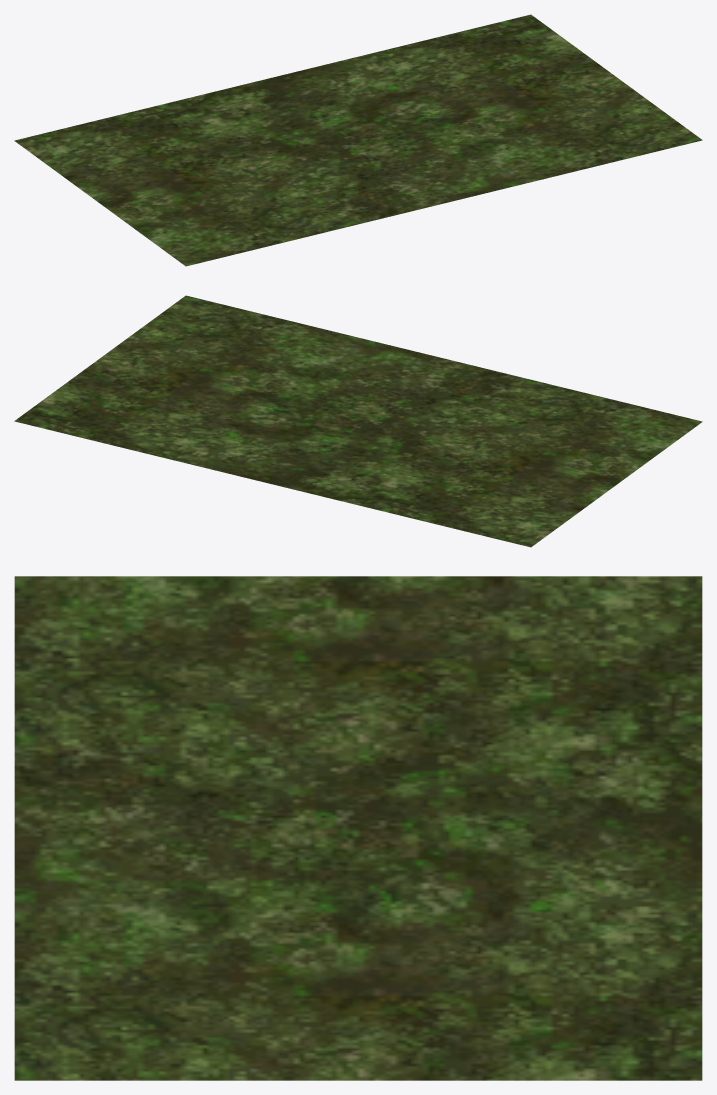
Rendered from OVERHILL_A_01_LINE165.fbx.
3 renders of one model, top to bottom at view 1: azimuth 30°, elevation 25°; view 2: azimuth 150°, elevation 25°; view 3: azimuth 270°, elevation 25°, orthographic. The views are drawn at different scales.
Parts seen in each view (by area): view 1: OVERHILL_A_01_LINE165; view 2: OVERHILL_A_01_LINE165; view 3: OVERHILL_A_01_LINE165.
Boxes of the visible parts, <box> form: OVERHILL_A_01_LINE165: <box>14,14,702,266</box>; OVERHILL_A_01_LINE165: <box>14,295,702,547</box>; OVERHILL_A_01_LINE165: <box>14,576,702,1080</box>.
Bounding box in the file's own units: 58927 × 0.00553 × 33935.
1 material, 1 textured.
